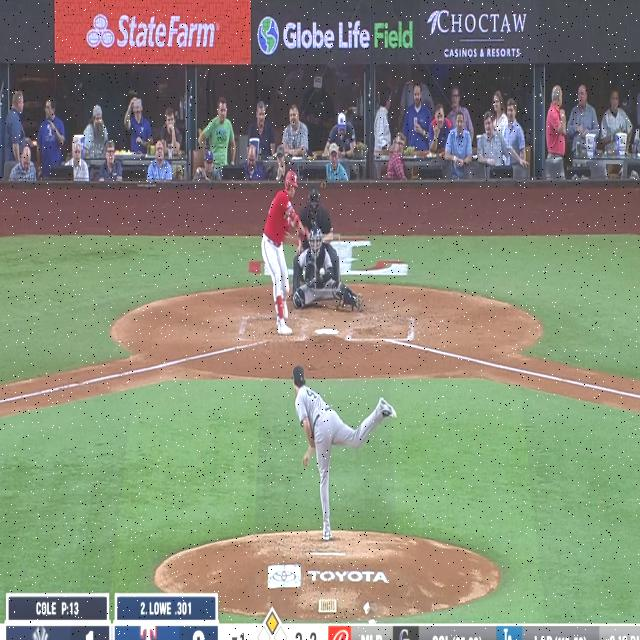baseball: (319, 267, 325, 276)
